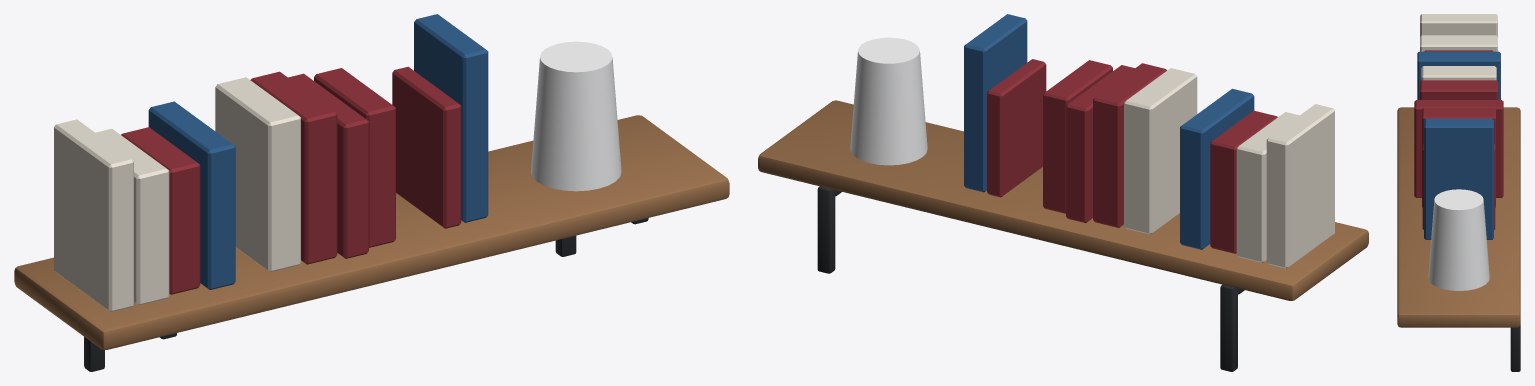
Rendered from shelf_wall.glb.
3 views of the same model, side by side, from view 1: azimuth 30°, elevation 25°; view 2: azimuth 150°, elevation 25°; view 3: azimuth 270°, elevation 25° (orthographic). The views are drawn at different scales.
Parts seen in each view (by area): view 1: box, box.005, box.009, cyl, box.013, box.014, box.008, box.010, box.006, box.012, box.007, box.011; view 2: box, box.005, box.009, cyl, box.013, box.014, box.008, box.010, box.006, box.012, box.007, box.011 (+2 smaller); view 3: box, box.014, cyl, box.011, box.005, box.010, box.008, box.006, box.009, box.012, box.004, box.013 (+1 smaller).
Boxes of the visible parts, x1,y1,x2,y2 form: box: [14, 115, 729, 349]; box.005: [54, 119, 133, 312]; box.009: [215, 77, 300, 272]; cyl: [531, 41, 621, 191]; box.013: [392, 66, 461, 228]; box.014: [414, 14, 488, 222]; box.008: [148, 101, 235, 289]; box.010: [250, 71, 337, 264]; box.006: [96, 128, 169, 305]; box.012: [314, 68, 395, 247]; box.007: [121, 127, 200, 294]; box.011: [288, 73, 368, 258]; box: [758, 100, 1368, 300]; box.005: [1266, 104, 1334, 268]; box.009: [1124, 68, 1197, 234]; cyl: [850, 37, 927, 165]; box.013: [987, 59, 1046, 197]; box.014: [964, 14, 1027, 192]; box.008: [1180, 88, 1254, 249]; box.010: [1093, 63, 1166, 227]; box.006: [1236, 112, 1299, 262]; box.012: [1043, 60, 1112, 213]; box.007: [1210, 110, 1277, 253]; box.011: [1066, 65, 1134, 223]; box: [1397, 107, 1520, 327]; box.014: [1424, 118, 1493, 239]; cyl: [1428, 189, 1489, 290]; box.011: [1414, 100, 1503, 197]; box.005: [1420, 14, 1497, 36]; box.010: [1419, 80, 1498, 99]; box.008: [1417, 51, 1500, 99]; box.006: [1420, 35, 1497, 51]; box.009: [1421, 66, 1496, 80]; box.012: [1422, 108, 1495, 207]; box.004: [1510, 325, 1520, 371]; box.013: [1422, 144, 1495, 229].
Size of the model in its own units: 80 by 35.06 by 20.
